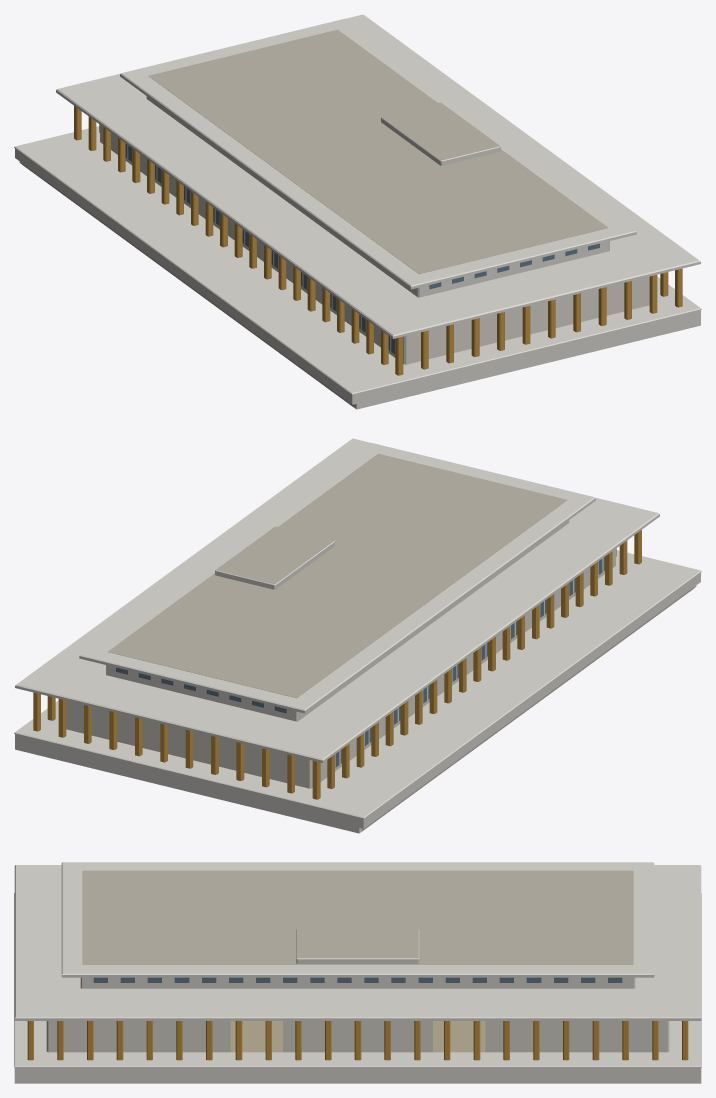
The model's file is dc-kennedy-center.glb.
3 views of the same model, one above another, from view 1: azimuth 30°, elevation 25°; view 2: azimuth 150°, elevation 25°; view 3: azimuth 270°, elevation 25° (orthographic).
Visible parts, largest first — view 1: John F. Kennedy Center for the Performing Arts; view 2: John F. Kennedy Center for the Performing Arts; view 3: John F. Kennedy Center for the Performing Arts.
Part boxes in pixels (<box>): John F. Kennedy Center for the Performing Arts: <box>14,14,701,409</box>; John F. Kennedy Center for the Performing Arts: <box>14,438,701,833</box>; John F. Kennedy Center for the Performing Arts: <box>14,862,701,1083</box>.
Bounding box in the file's own units: 126 × 32 × 211.
